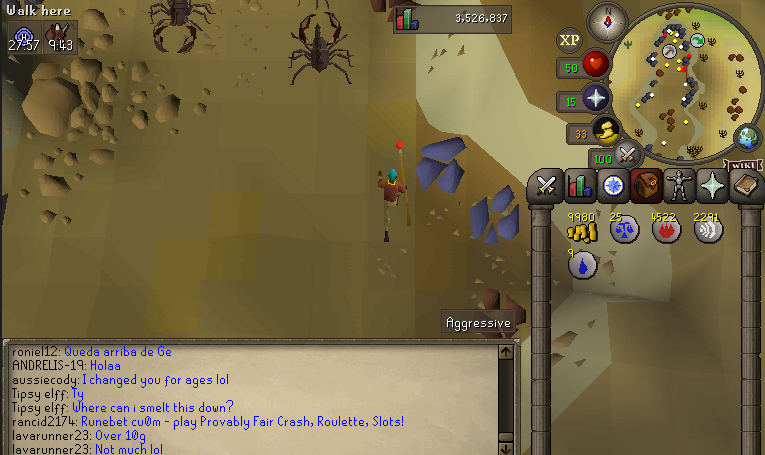iron: (475, 285, 528, 340), (364, 1, 423, 27)
